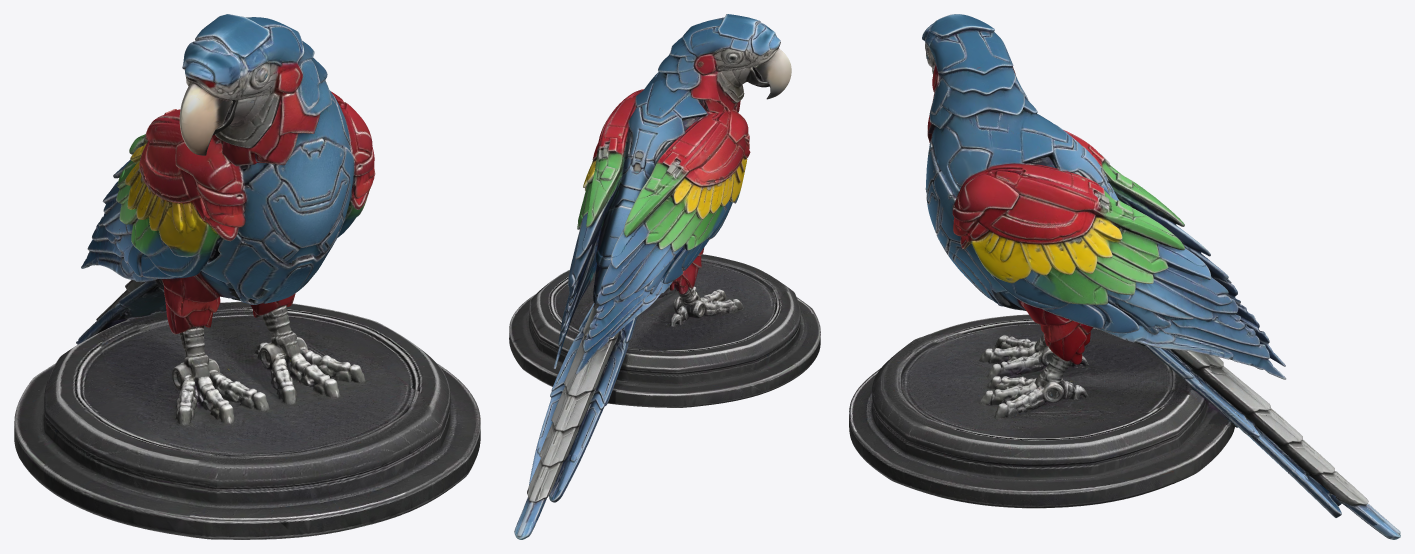
The model's file is 机械鹦鹉-刘岳澄.glb.
3 views of the same model, side by side, from view 1: azimuth 30°, elevation 25°; view 2: azimuth 150°, elevation 25°; view 3: azimuth 270°, elevation 25° (orthographic). The views are drawn at different scales.
Bounding box in the file's own units: 1.32 × 1.88 × 1.9.
Materials: 1 (1 with a texture image).
